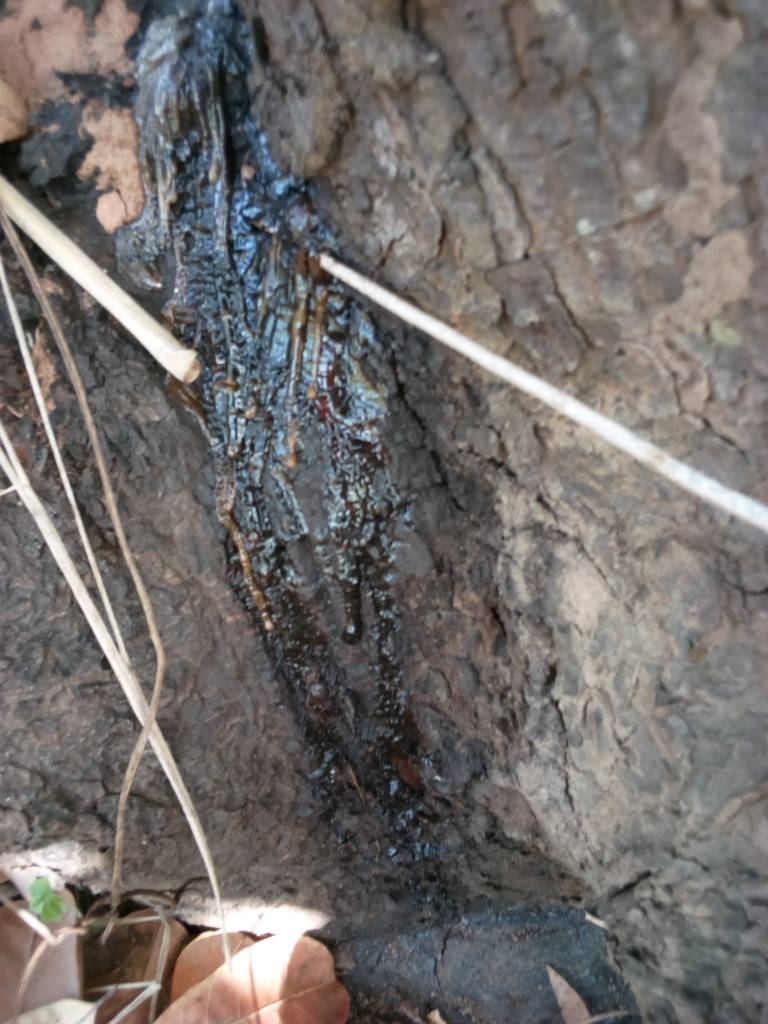Gommose: (165, 27, 469, 905)
